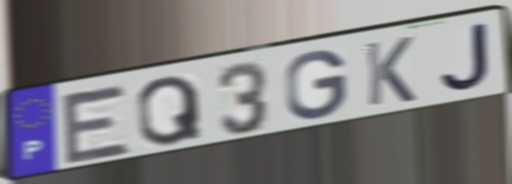3: (215, 59, 270, 138)
E: (57, 82, 134, 167)
G: (283, 48, 350, 123)
J: (438, 20, 492, 94)
K: (361, 34, 418, 110)
Q: (134, 72, 206, 148)
